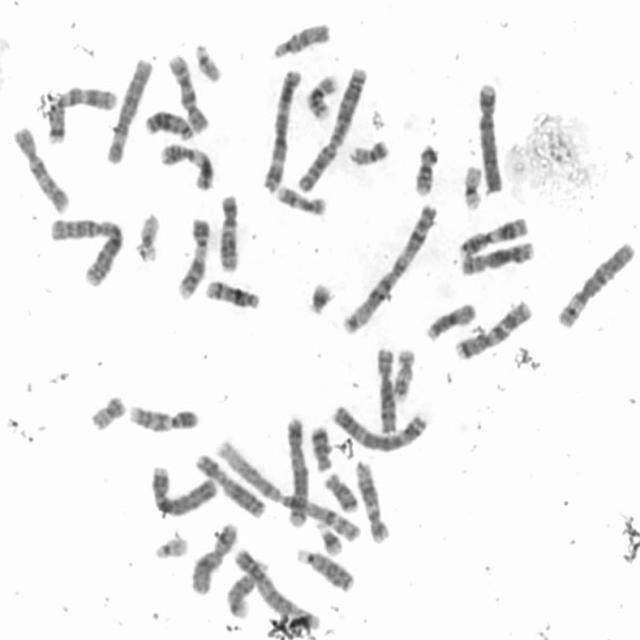A1: (210, 438, 362, 541), (339, 201, 440, 339)
A2: (297, 63, 368, 194), (46, 218, 128, 290)
A3: (260, 67, 304, 194), (330, 404, 431, 454)
B4: (148, 466, 218, 520), (477, 82, 504, 196)
B5: (233, 547, 323, 631), (285, 416, 310, 528)
C10: (10, 125, 70, 215), (167, 52, 211, 134)
C11: (459, 214, 533, 258), (158, 142, 217, 192)
C12: (350, 460, 391, 544), (219, 192, 238, 272)
C6: (555, 244, 635, 332), (104, 56, 154, 167)
C7: (454, 300, 536, 360), (45, 86, 120, 151)
C8: (461, 242, 537, 277), (376, 348, 398, 436)
C9: (175, 216, 212, 300), (128, 403, 202, 437)
D13: (292, 546, 359, 594), (144, 109, 193, 141)
D14: (224, 559, 270, 621), (205, 280, 261, 310)
D15: (267, 23, 334, 61), (424, 304, 478, 342)
E16: (303, 72, 339, 122), (411, 144, 443, 195)
E17: (275, 182, 329, 220), (390, 346, 417, 404)
E18: (324, 473, 359, 516), (309, 423, 335, 472)
F19: (132, 208, 161, 266), (458, 161, 483, 213)
F20: (346, 138, 394, 168), (90, 394, 125, 432)
G21: (314, 517, 347, 560), (304, 280, 337, 317)
G22: (195, 41, 222, 83), (154, 535, 190, 563)
X: (194, 454, 268, 522), (189, 520, 239, 596)
